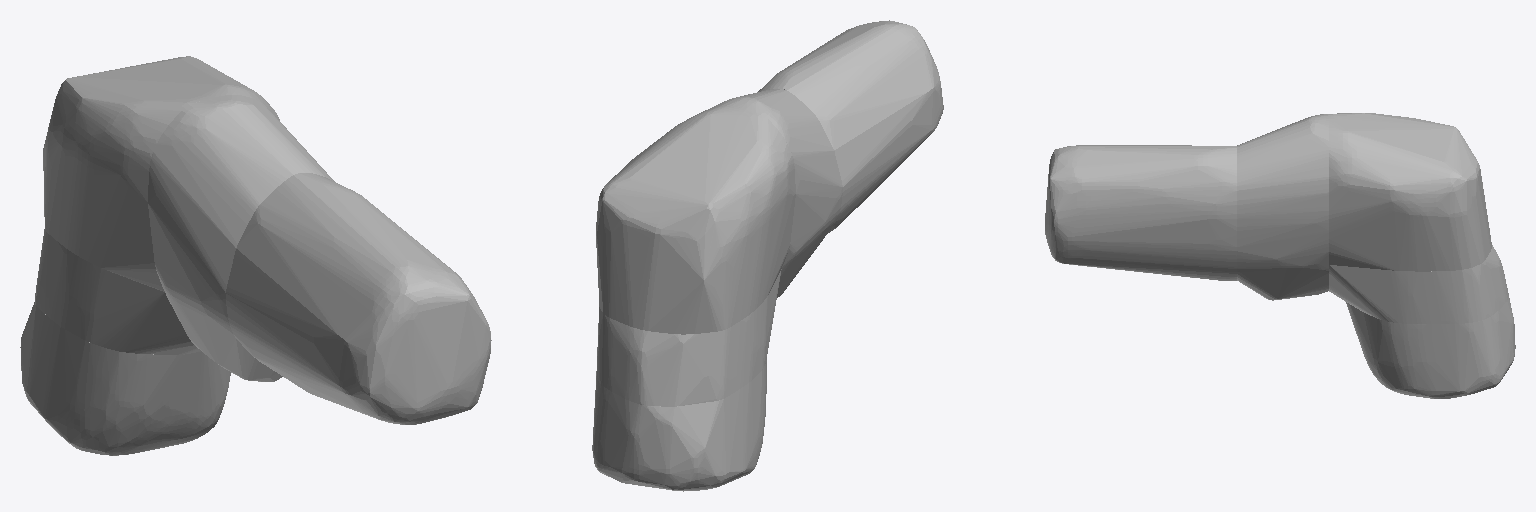
robot.urdf — root:
<robot name="root">
  <link name="link_coacd_convex_piece_0">
    <inertial>
      <origin xyz="0 0 0" rpy="0 0 0"/>
      <inertia ixx="1.43E-08" ixy="2.48E-10" ixz="-6.02E-11" iyy="1.45E-08" iyz="-4.94E-10" izz="7.51E-09"/>
    </inertial>
    <visual>
      <origin xyz="0 0 0" rpy="0 0 0"/>
      <geometry>
        <mesh filename="coacd_convex_piece_0.obj" scale="1.0000E+00 1.0000E+00 1.0000E+00"/>
      </geometry>
      <material name="">
        <color rgba="7.50E-01 7.50E-01 7.50E-01 1"/>
      </material>
    </visual>
    <collision>
      <origin xyz="0 0 0" rpy="0 0 0"/>
      <geometry>
        <mesh filename="coacd_convex_piece_0.obj" scale="1.0000E+00 1.0000E+00 1.0000E+00"/>
      </geometry>
    </collision>
  </link>
  <link name="link_coacd_convex_piece_1">
    <inertial>
      <origin xyz="0 0 0" rpy="0 0 0"/>
      <inertia ixx="3.11E-08" ixy="3.17E-10" ixz="-3.05E-10" iyy="1.39E-08" iyz="1.13E-09" izz="2.78E-08"/>
    </inertial>
    <visual>
      <origin xyz="0 0 0" rpy="0 0 0"/>
      <geometry>
        <mesh filename="coacd_convex_piece_1.obj" scale="1.0000E+00 1.0000E+00 1.0000E+00"/>
      </geometry>
      <material name="">
        <color rgba="7.50E-01 7.50E-01 7.50E-01 1"/>
      </material>
    </visual>
    <collision>
      <origin xyz="0 0 0" rpy="0 0 0"/>
      <geometry>
        <mesh filename="coacd_convex_piece_1.obj" scale="1.0000E+00 1.0000E+00 1.0000E+00"/>
      </geometry>
    </collision>
  </link>
  <joint name="link_coacd_convex_piece_1_joint" type="fixed">
    <origin xyz="0 0 0" rpy="0 0 0"/>
    <parent link="link_coacd_convex_piece_0"/>
    <child link="link_coacd_convex_piece_1"/>
  </joint>
  <link name="link_coacd_convex_piece_2">
    <inertial>
      <origin xyz="0 0 0" rpy="0 0 0"/>
      <inertia ixx="2.51E-08" ixy="2.11E-11" ixz="3.68E-11" iyy="2.01E-08" iyz="2.15E-09" izz="2.52E-08"/>
    </inertial>
    <visual>
      <origin xyz="0 0 0" rpy="0 0 0"/>
      <geometry>
        <mesh filename="coacd_convex_piece_2.obj" scale="1.0000E+00 1.0000E+00 1.0000E+00"/>
      </geometry>
      <material name="">
        <color rgba="7.50E-01 7.50E-01 7.50E-01 1"/>
      </material>
    </visual>
    <collision>
      <origin xyz="0 0 0" rpy="0 0 0"/>
      <geometry>
        <mesh filename="coacd_convex_piece_2.obj" scale="1.0000E+00 1.0000E+00 1.0000E+00"/>
      </geometry>
    </collision>
  </link>
  <joint name="link_coacd_convex_piece_2_joint" type="fixed">
    <origin xyz="0 0 0" rpy="0 0 0"/>
    <parent link="link_coacd_convex_piece_1"/>
    <child link="link_coacd_convex_piece_2"/>
  </joint>
  <link name="link_coacd_convex_piece_3">
    <inertial>
      <origin xyz="0 0 0" rpy="0 0 0"/>
      <inertia ixx="1.15E-08" ixy="-3.13E-11" ixz="-9.35E-11" iyy="8.84E-09" iyz="3.06E-10" izz="1.37E-08"/>
    </inertial>
    <visual>
      <origin xyz="0 0 0" rpy="0 0 0"/>
      <geometry>
        <mesh filename="coacd_convex_piece_3.obj" scale="1.0000E+00 1.0000E+00 1.0000E+00"/>
      </geometry>
      <material name="">
        <color rgba="7.50E-01 7.50E-01 7.50E-01 1"/>
      </material>
    </visual>
    <collision>
      <origin xyz="0 0 0" rpy="0 0 0"/>
      <geometry>
        <mesh filename="coacd_convex_piece_3.obj" scale="1.0000E+00 1.0000E+00 1.0000E+00"/>
      </geometry>
    </collision>
  </link>
  <joint name="link_coacd_convex_piece_3_joint" type="fixed">
    <origin xyz="0 0 0" rpy="0 0 0"/>
    <parent link="link_coacd_convex_piece_2"/>
    <child link="link_coacd_convex_piece_3"/>
  </joint>
  <link name="link_coacd_convex_piece_4">
    <inertial>
      <origin xyz="0 0 0" rpy="0 0 0"/>
      <inertia ixx="9.36E-09" ixy="3.49E-11" ixz="-6.92E-11" iyy="5.39E-09" iyz="3.40E-10" izz="1.23E-08"/>
    </inertial>
    <visual>
      <origin xyz="0 0 0" rpy="0 0 0"/>
      <geometry>
        <mesh filename="coacd_convex_piece_4.obj" scale="1.0000E+00 1.0000E+00 1.0000E+00"/>
      </geometry>
      <material name="">
        <color rgba="7.50E-01 7.50E-01 7.50E-01 1"/>
      </material>
    </visual>
    <collision>
      <origin xyz="0 0 0" rpy="0 0 0"/>
      <geometry>
        <mesh filename="coacd_convex_piece_4.obj" scale="1.0000E+00 1.0000E+00 1.0000E+00"/>
      </geometry>
    </collision>
  </link>
  <joint name="link_coacd_convex_piece_4_joint" type="fixed">
    <origin xyz="0 0 0" rpy="0 0 0"/>
    <parent link="link_coacd_convex_piece_3"/>
    <child link="link_coacd_convex_piece_4"/>
  </joint>
</robot>

--- Render facts (derived) ---
The picture shows the robot from 3 angles, left to right: view 1: azimuth 30°, elevation 25°; view 2: azimuth 150°, elevation 25°; view 3: azimuth 270°, elevation 25°; orthographic projection.
Robot: root — 5 links, 4 joints (4 fixed); root link link_coacd_convex_piece_0; default pose: every joint at zero.
Links seen in each view (by area): view 1: link_coacd_convex_piece_1, link_coacd_convex_piece_0, link_coacd_convex_piece_2, link_coacd_convex_piece_3, link_coacd_convex_piece_4; view 2: link_coacd_convex_piece_2, link_coacd_convex_piece_1, link_coacd_convex_piece_3, link_coacd_convex_piece_4, link_coacd_convex_piece_0; view 3: link_coacd_convex_piece_1, link_coacd_convex_piece_2, link_coacd_convex_piece_0, link_coacd_convex_piece_3, link_coacd_convex_piece_4.
Boxes of the visible links, x1,y1,x2,y2 form: link_coacd_convex_piece_1: (226,173,491,424); link_coacd_convex_piece_0: (148,95,334,381); link_coacd_convex_piece_2: (43,56,279,291); link_coacd_convex_piece_3: (20,302,230,455); link_coacd_convex_piece_4: (35,229,200,354); link_coacd_convex_piece_2: (596,106,795,334); link_coacd_convex_piece_1: (758,20,943,232); link_coacd_convex_piece_3: (592,360,766,491); link_coacd_convex_piece_4: (596,269,781,406); link_coacd_convex_piece_0: (712,89,842,297); link_coacd_convex_piece_1: (1045,145,1236,280); link_coacd_convex_piece_2: (1329,113,1491,271); link_coacd_convex_piece_0: (1237,114,1328,300); link_coacd_convex_piece_3: (1346,298,1515,398); link_coacd_convex_piece_4: (1329,245,1508,323).
Size in the robot's own frame: 0.0466 by 0.1562 by 0.0963 metres.
Meshes: 5 distinct files referenced, 5 mesh visuals loaded (5 OBJ).
